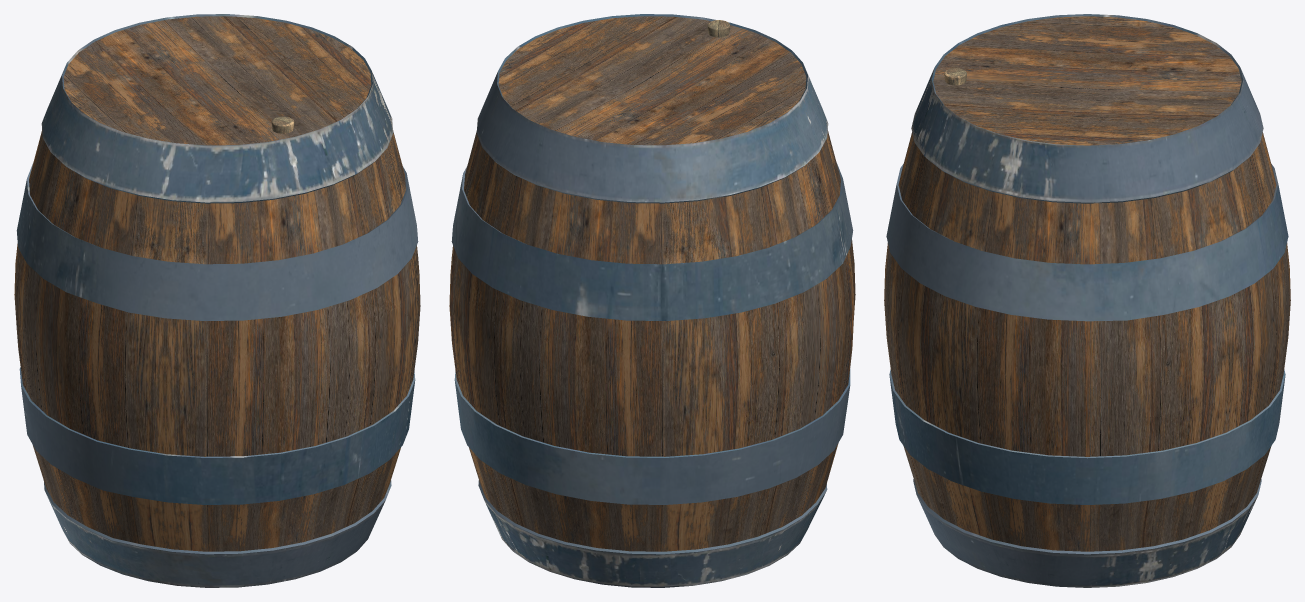
The model's file is Barrel.fbx.
The picture shows the model from 3 angles, left to right: view 1: azimuth 30°, elevation 25°; view 2: azimuth 150°, elevation 25°; view 3: azimuth 270°, elevation 25°; orthographic projection.
Parts seen in each view (by area): view 1: Barrel; view 2: Barrel; view 3: Barrel.
Part boxes in pixels (x1,y1,x2,y2): Barrel: [14, 14, 420, 587]; Barrel: [449, 14, 855, 587]; Barrel: [884, 14, 1290, 587].
Size of the model in its own units: 75 by 91.48 by 75.
Materials: 4 (3 with a texture image).
